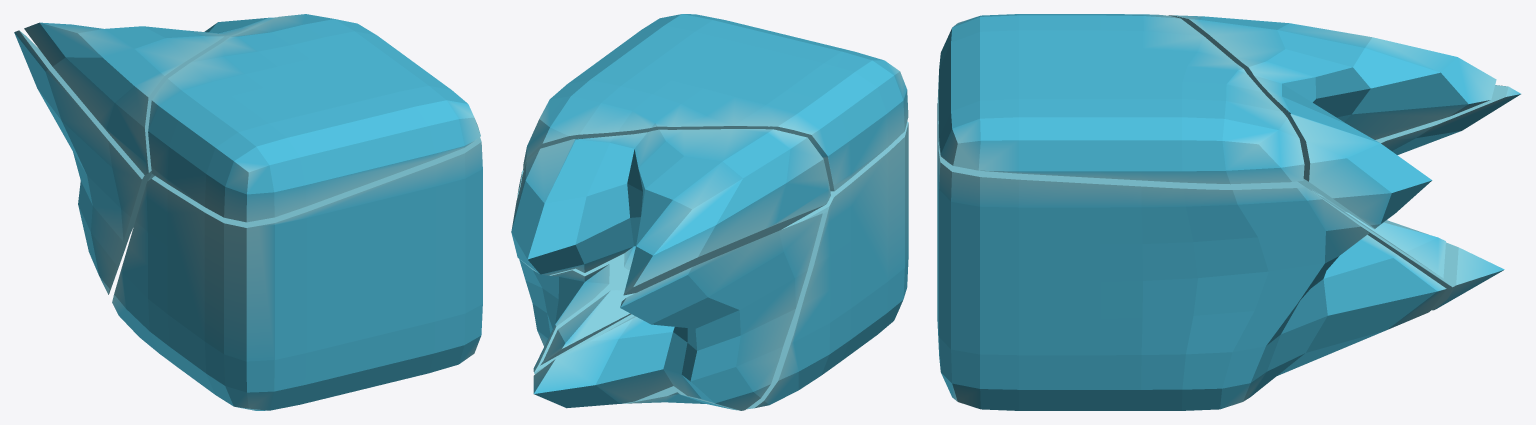
The model's file is iceWall3.fbx.
3 renders of one model, left to right at view 1: azimuth 30°, elevation 25°; view 2: azimuth 150°, elevation 25°; view 3: azimuth 270°, elevation 25°, orthographic. The views are drawn at different scales.
Visible parts, largest first — view 1: wall_80HP; view 2: wall_80HP; view 3: wall_80HP.
Boxes of the visible parts, x1,y1,x2,y2 form: wall_80HP: [14, 14, 482, 410]; wall_80HP: [511, 14, 908, 410]; wall_80HP: [937, 14, 1520, 410].
Size of the model in its own units: 100 by 100 by 179.
